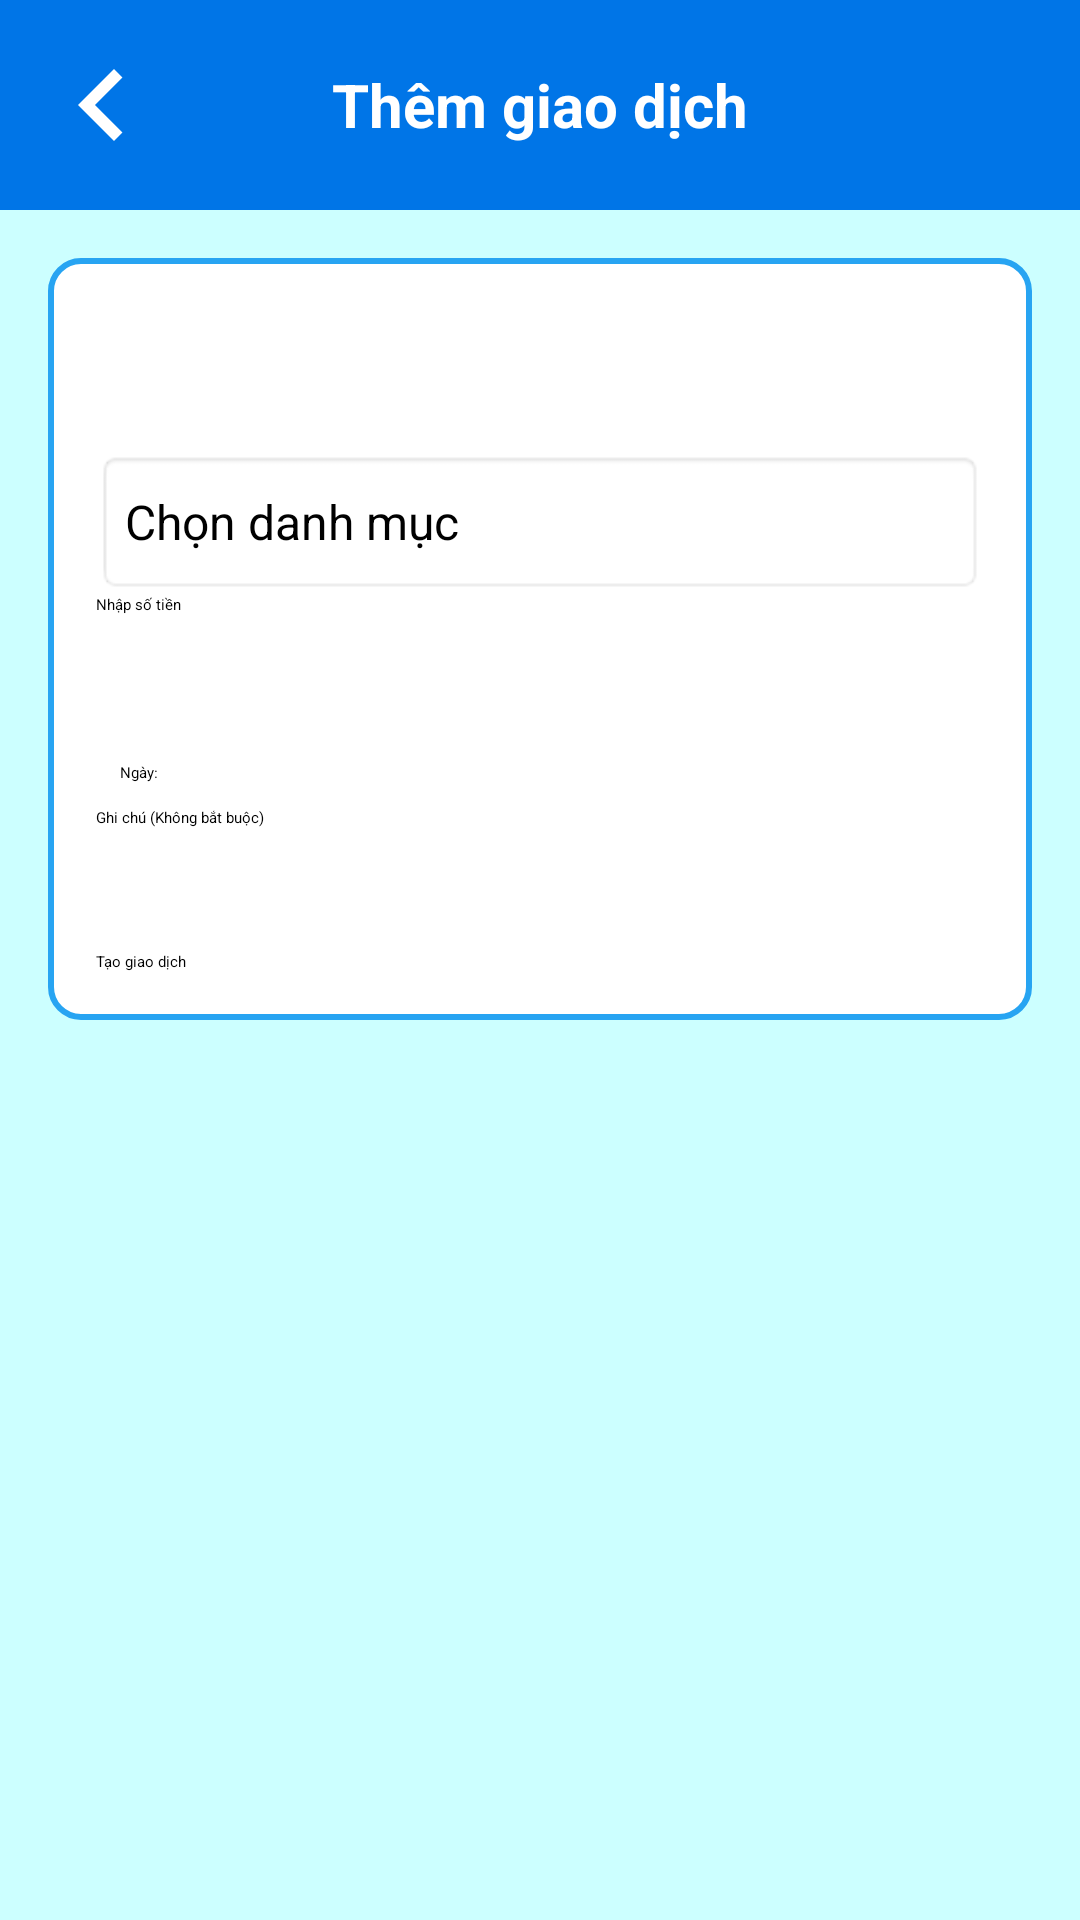

Point at icon controls on the screen. Image size 1080*1920, points as (x=x, y=y).
Đóng màn hình: (x=100, y=105)
